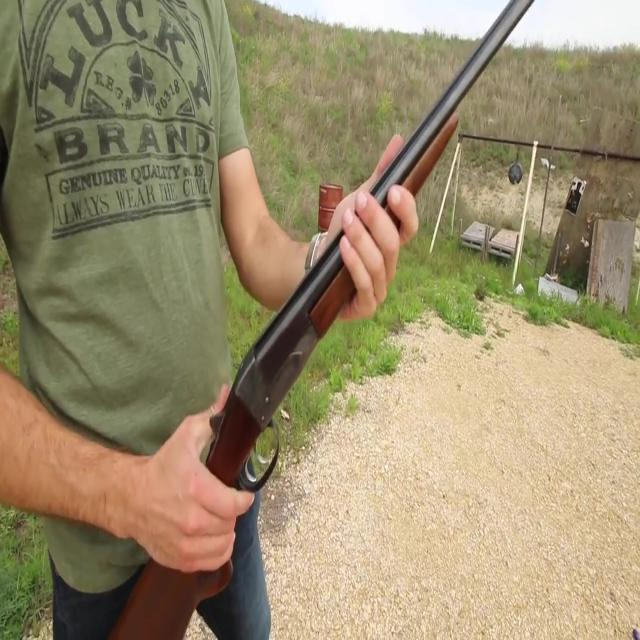Weapon: (65, 0, 562, 640)
